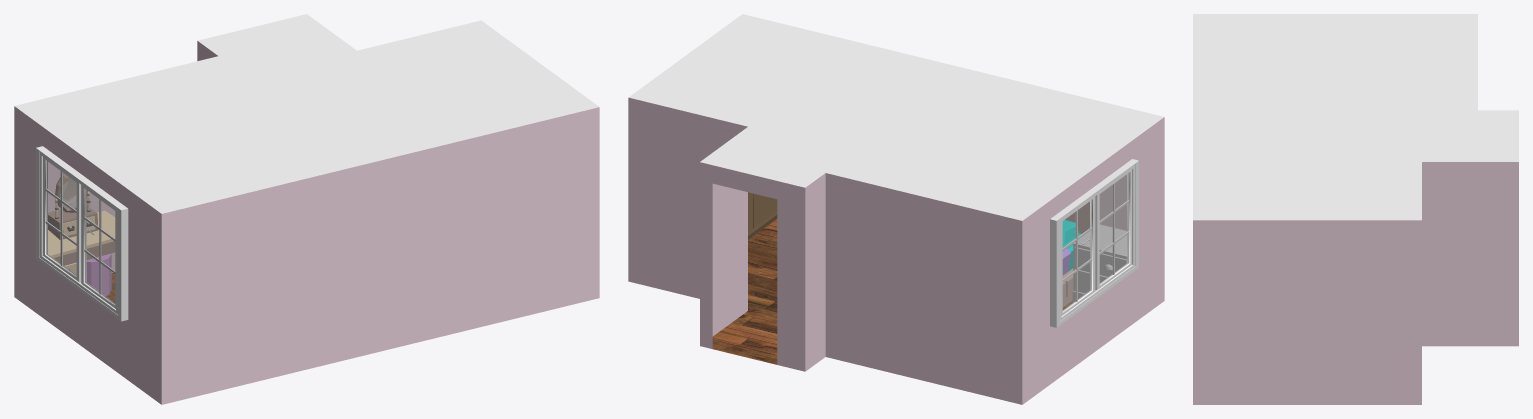
Rendered from bedroom3_master.fbx.
3 renders of one model, left to right at view 1: azimuth 30°, elevation 25°; view 2: azimuth 150°, elevation 25°; view 3: azimuth 270°, elevation 25°, orthographic. The views are drawn at different scales.
Visible parts, largest first — view 1: Cube, 16639_12_Pane_Casement_Window-White_V1, group65430430, group1391933824; view 2: Cube, 16639_12_Pane_Casement_Window-White_V1, SM_Closet_02.001, a_low.001, b_low.001, mesh_63570314; view 3: Cube.
Part boxes in pixels (bbox=[...]): Cube: bbox=[14, 14, 599, 404]; 16639_12_Pane_Casement_Window-White_V1: bbox=[35, 146, 128, 321]; group65430430: bbox=[48, 173, 115, 274]; group1391933824: bbox=[86, 253, 111, 295]; Cube: bbox=[628, 14, 1164, 404]; 16639_12_Pane_Casement_Window-White_V1: bbox=[1050, 159, 1138, 327]; SM_Closet_02.001: bbox=[748, 192, 777, 239]; a_low.001: bbox=[1074, 247, 1127, 293]; b_low.001: bbox=[1073, 224, 1127, 290]; mesh_63570314: bbox=[1062, 233, 1081, 306]; Cube: bbox=[1193, 14, 1518, 404].
Size of the model in its own units: 3048 by 1267 by 2000.
